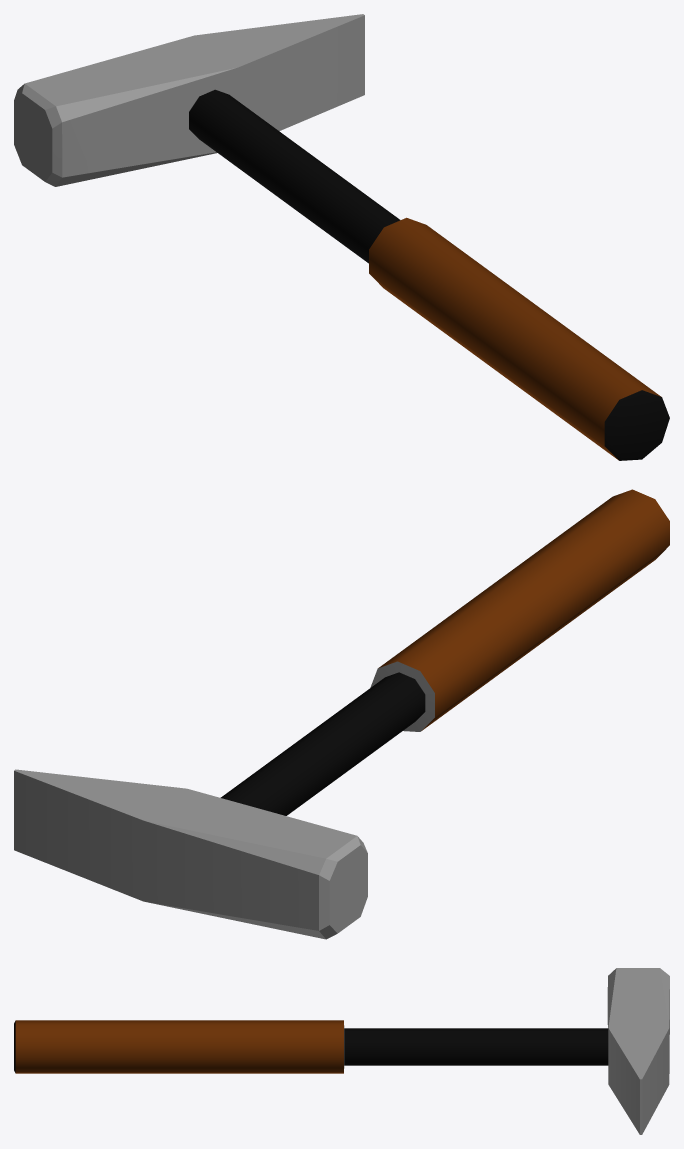
The model's file is chuizi-jianjiaochui.FBX.
3 renders of one model, top to bottom at view 1: azimuth 30°, elevation 25°; view 2: azimuth 150°, elevation 25°; view 3: azimuth 270°, elevation 25°, orthographic. The views are drawn at different scales.
Visible parts, largest first — view 1: chuizi; view 2: chuizi; view 3: chuizi.
Boxes of the visible parts, bbox=[...] form: chuizi: bbox=[14, 14, 669, 460]; chuizi: bbox=[14, 489, 669, 939]; chuizi: bbox=[14, 968, 669, 1134].
Size of the model in its own units: 1767 by 412 by 4325.
